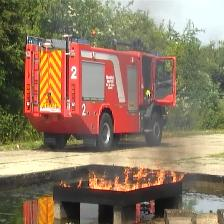fire: (89, 164, 166, 192), (169, 170, 185, 184)
